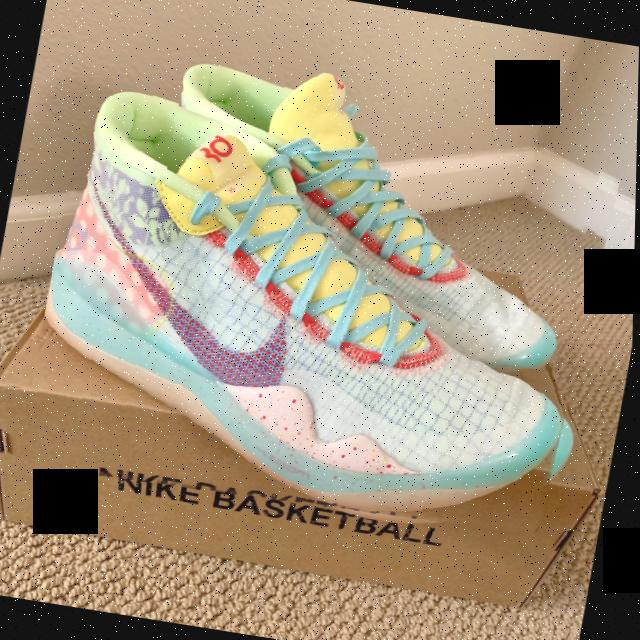shoe: (18, 82, 626, 550), (141, 52, 613, 380)
